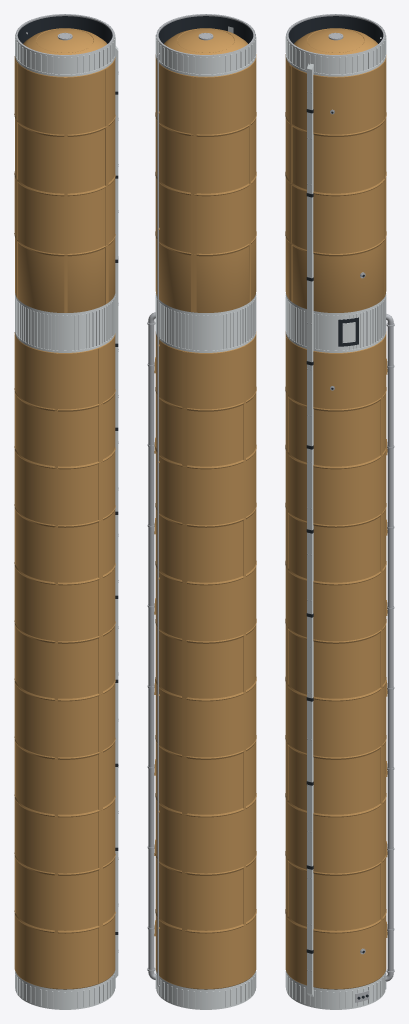
The model's file is tank_s1_l_hydrolox.fbx.
3 views of the same model, side by side, from view 1: azimuth 90°, elevation 25°; view 2: azimuth 150°, elevation 25°; view 3: azimuth 330°, elevation 25° (orthographic).
Visible parts, largest first — view 1: tank_s1_l_hydrolox_LOD0; view 2: tank_s1_l_hydrolox_LOD0; view 3: tank_s1_l_hydrolox_LOD0.
Part boxes in pixels (<box>): tank_s1_l_hydrolox_LOD0: <box>14,14,118,1009</box>; tank_s1_l_hydrolox_LOD0: <box>147,14,256,1009</box>; tank_s1_l_hydrolox_LOD0: <box>285,14,394,1009</box>.
Size of what is drawn, in the model's own units: 5.62 by 57.3 by 5.67.
